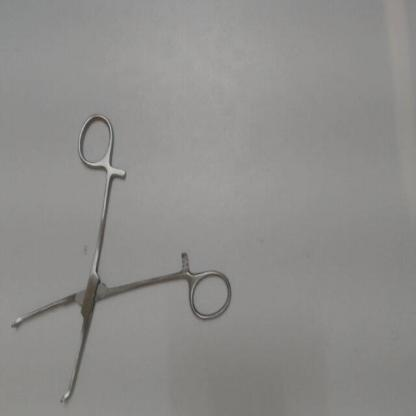Allis Tissue Forceps: (2, 105, 236, 416)
